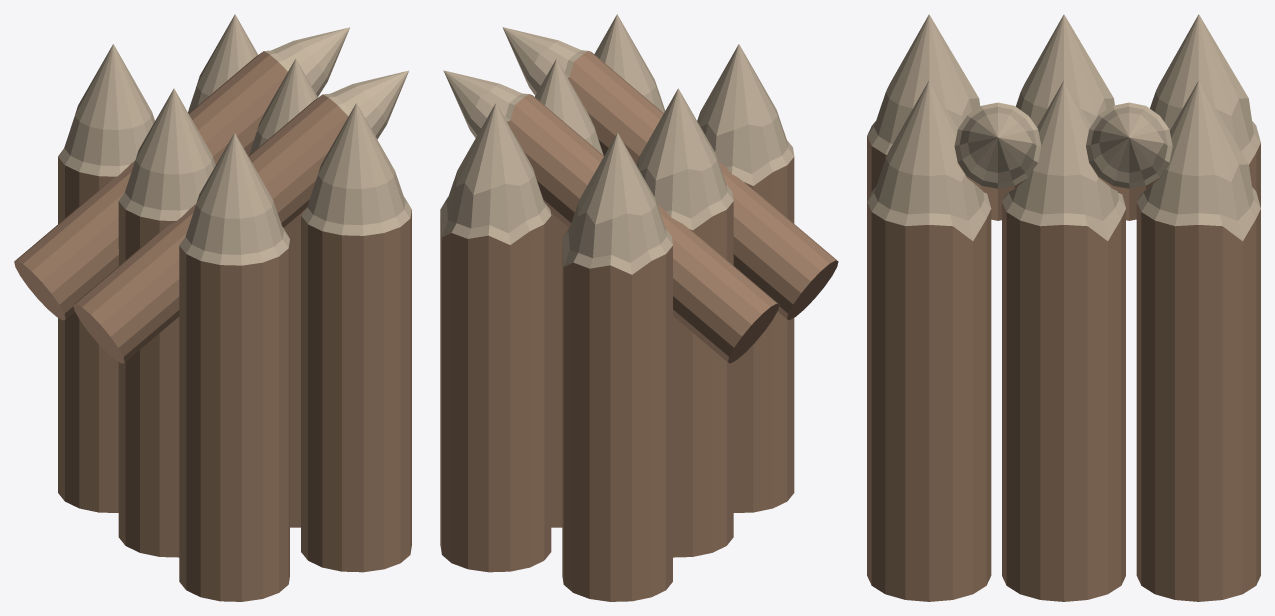
The model's file is Spike-H.fbx.
3 views of the same model, side by side, from view 1: azimuth 30°, elevation 25°; view 2: azimuth 150°, elevation 25°; view 3: azimuth 270°, elevation 25° (orthographic). The views are drawn at different scales.
Parts seen in each view (by area): view 1: SpikeTrap-H; view 2: SpikeTrap-H; view 3: SpikeTrap-H.
Boxes of the visible parts, bbox=[...] form: SpikeTrap-H: bbox=[14, 14, 411, 601]; SpikeTrap-H: bbox=[440, 14, 838, 601]; SpikeTrap-H: bbox=[867, 14, 1260, 601].
Bounding box in the file's own units: 125 × 163 × 117.
